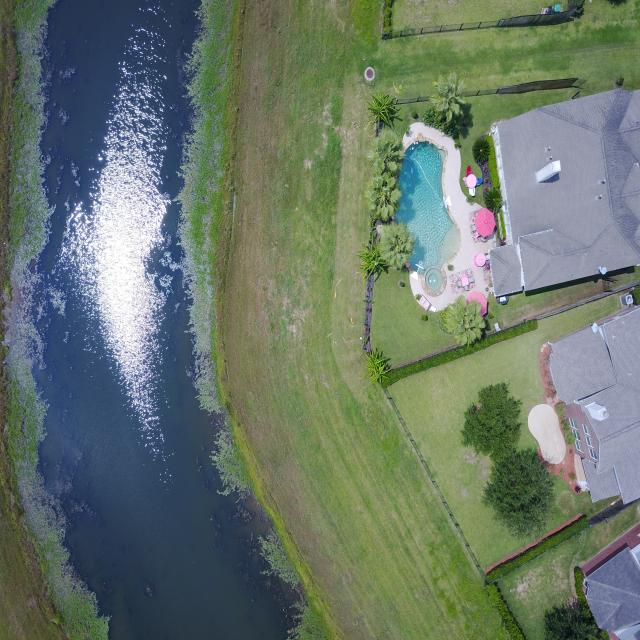fire: (32, 0, 298, 639)
